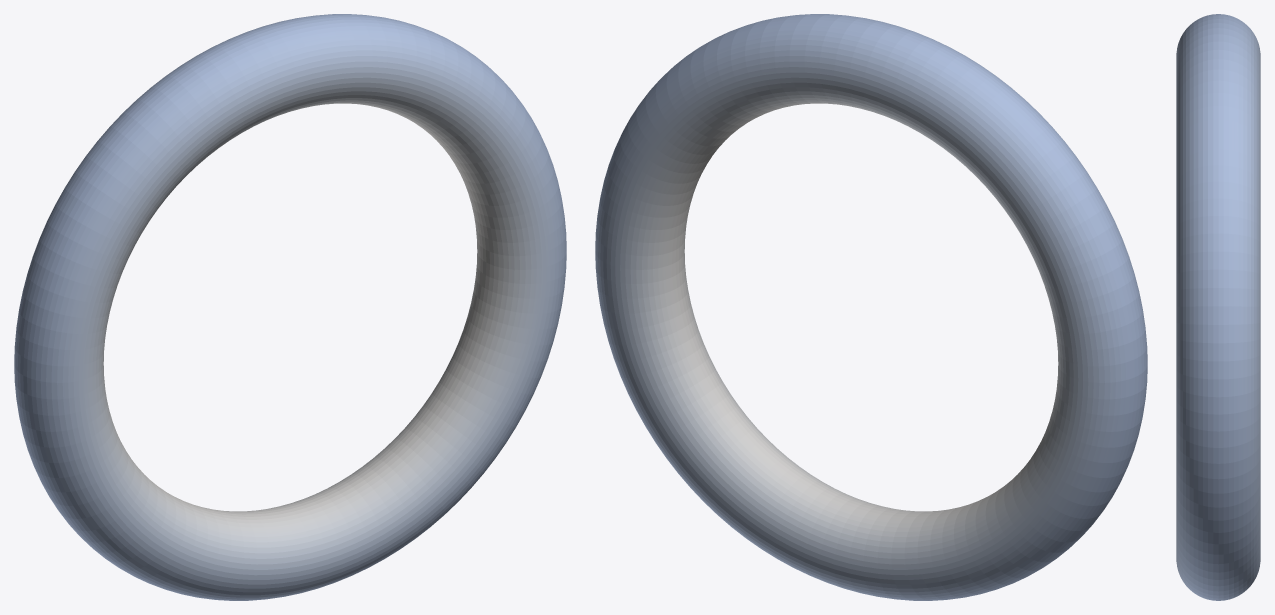
The picture shows the model from 3 angles, left to right: view 1: azimuth 30°, elevation 25°; view 2: azimuth 150°, elevation 25°; view 3: azimuth 270°, elevation 25°; orthographic projection. The views are drawn at different scales.
Parts seen in each view (by area): view 1: world; view 2: world; view 3: world.
Part boxes in pixels (x1=…): world: x1=14, y1=14, x2=566, y2=600; world: x1=595, y1=14, x2=1147, y2=600; world: x1=1176, y1=14, x2=1260, y2=600.
Bounding box in the file's own units: 28.8 × 28.8 × 4.13.
